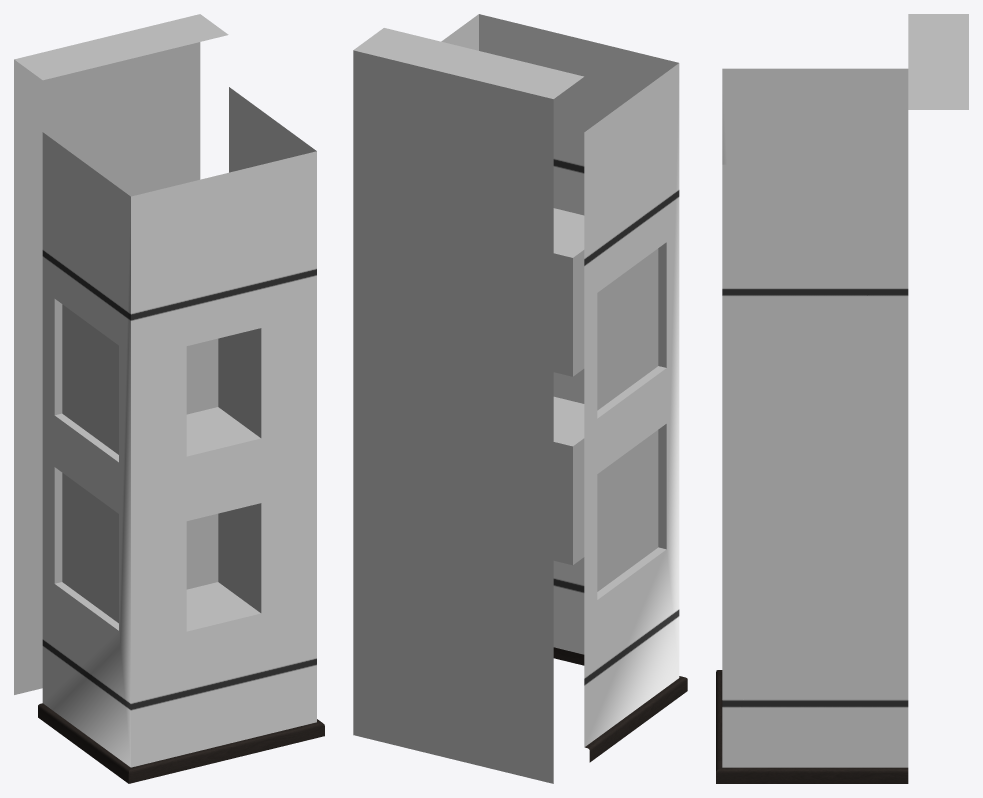
Rendered from Pillar01.FBX.
The picture shows the model from 3 angles, left to right: view 1: azimuth 30°, elevation 25°; view 2: azimuth 150°, elevation 25°; view 3: azimuth 270°, elevation 25°; orthographic projection. The views are drawn at different scales.
Parts seen in each view (by area): view 1: Pillar01; view 2: Pillar01; view 3: Pillar01.
Boxes of the visible parts, x1=… form: Pillar01: x1=14, y1=14, x2=324, y2=783; Pillar01: x1=353, y1=14, x2=687, y2=783; Pillar01: x1=716, y1=14, x2=968, y2=783.
Size of the model in its own units: 1.58 by 4.9 by 1.67.
